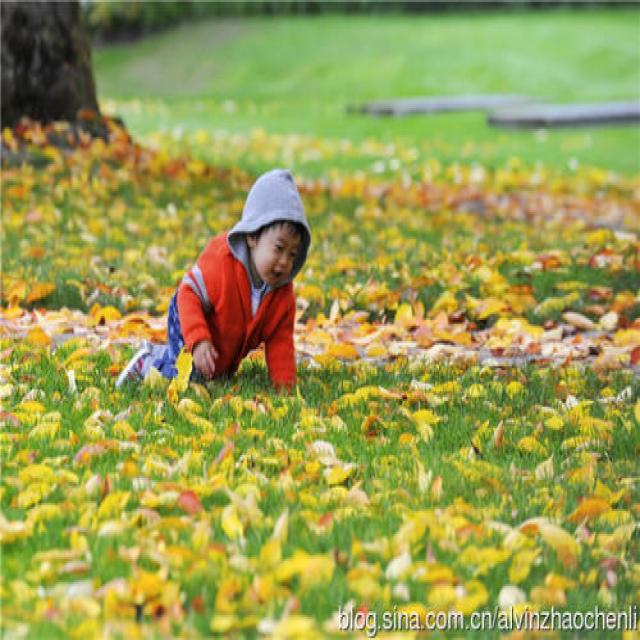down: (112, 150, 314, 407)
